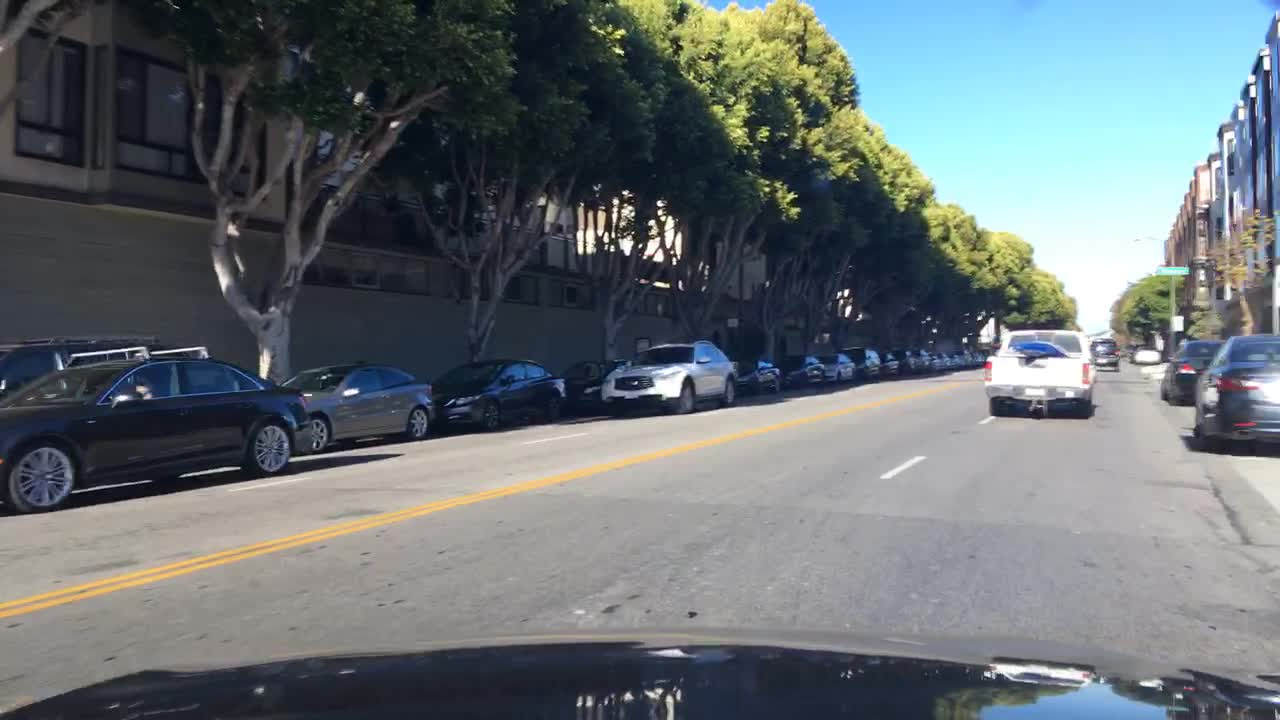car: (0, 351, 313, 515), (270, 360, 437, 450), (1, 340, 167, 412), (427, 357, 567, 433), (599, 339, 737, 416), (1191, 333, 1278, 451), (983, 328, 1096, 410), (1158, 337, 1234, 404), (559, 354, 635, 410), (731, 355, 784, 398), (779, 352, 827, 390), (840, 343, 880, 381), (810, 352, 857, 383), (1086, 339, 1120, 372), (1131, 346, 1161, 366), (878, 352, 903, 375), (893, 346, 915, 371), (912, 346, 931, 371), (925, 351, 941, 372), (954, 349, 972, 365), (947, 352, 962, 369), (972, 348, 986, 366), (938, 351, 950, 368)
traffic sign: (1155, 265, 1190, 273), (1170, 314, 1184, 331)
